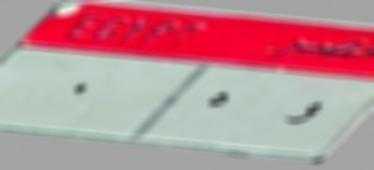0: (55, 77, 104, 110)
haa: (195, 86, 248, 123)
waw: (274, 89, 327, 140)
